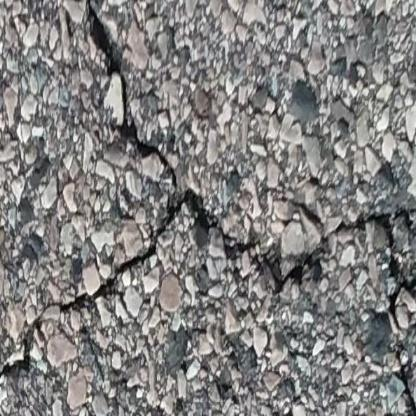Cracks: (0, 0, 416, 416), (393, 344, 416, 416)
